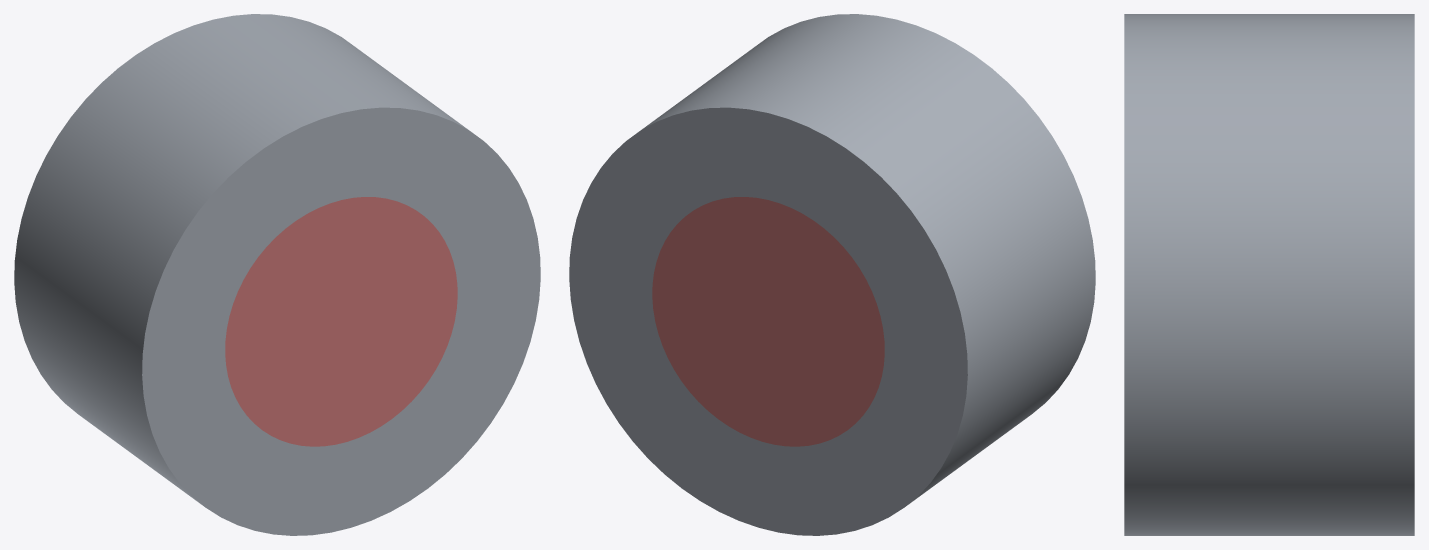
Rendered from step_02.glb.
The picture shows the model from 3 angles, left to right: view 1: azimuth 30°, elevation 25°; view 2: azimuth 150°, elevation 25°; view 3: azimuth 270°, elevation 25°; orthographic projection. The views are drawn at different scales.
Parts seen in each view (by area): view 1: part__Housing, removed__Housing; view 2: part__Housing, removed__Housing; view 3: part__Housing.
Boxes of the visible parts, bbox=[...] form: part__Housing: bbox=[14, 14, 540, 535]; removed__Housing: bbox=[225, 197, 457, 446]; part__Housing: bbox=[569, 14, 1095, 535]; removed__Housing: bbox=[652, 197, 884, 446]; part__Housing: bbox=[1124, 14, 1414, 535].
Size of the model in its own units: 71.98 by 71.96 by 40.
